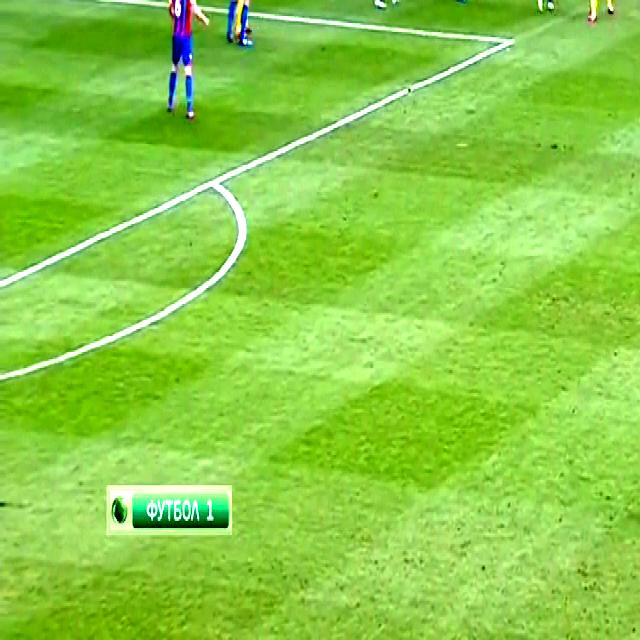soccer-player: (146, 0, 219, 130), (217, 0, 282, 48), (631, 284, 640, 522), (576, 0, 631, 28), (358, 0, 420, 16), (535, 0, 570, 16), (438, 0, 486, 9)
